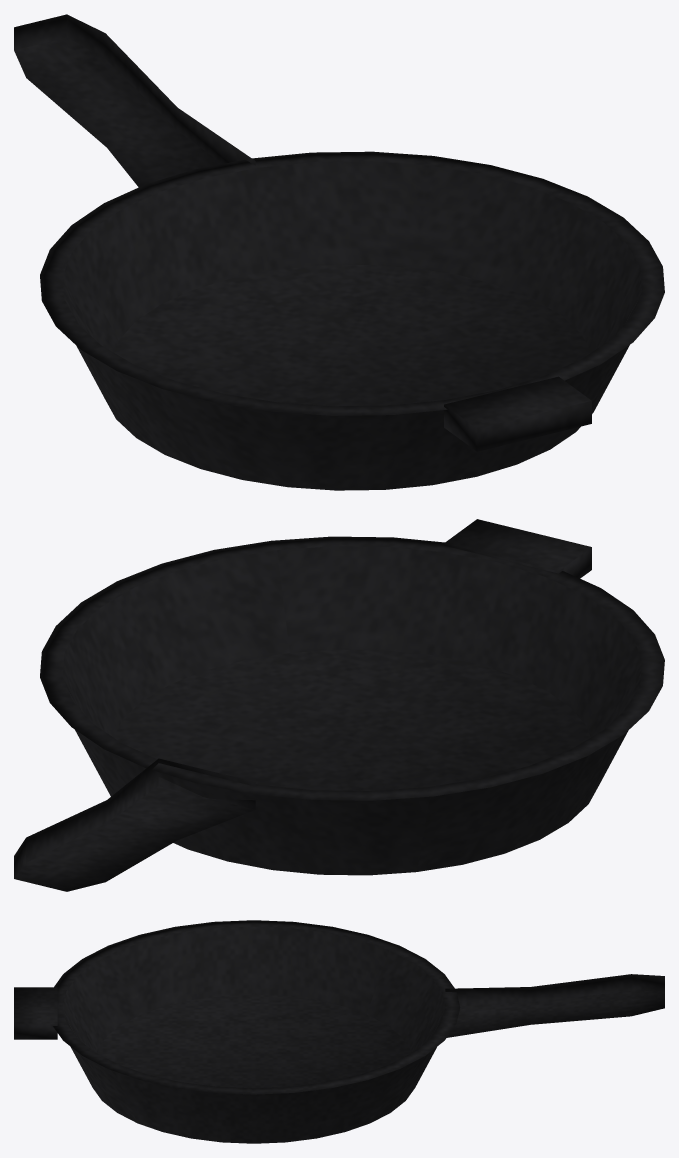
File: skillet_castiron.glb
3 renders of one model, top to bottom at view 1: azimuth 30°, elevation 25°; view 2: azimuth 150°, elevation 25°; view 3: azimuth 270°, elevation 25°, orthographic. The views are drawn at different scales.
Parts seen in each view (by area): view 1: CastIronSkillet; view 2: CastIronSkillet; view 3: CastIronSkillet.
Part boxes in pixels (left/top/right/bottom): CastIronSkillet: left=14, top=14, right=664, bottom=490; CastIronSkillet: left=14, top=519, right=664, bottom=891; CastIronSkillet: left=14, top=920, right=664, bottom=1143.
Size of the model in its own units: 0.246 by 0.059 by 0.388.
Materials: 1 (1 with a texture image).
